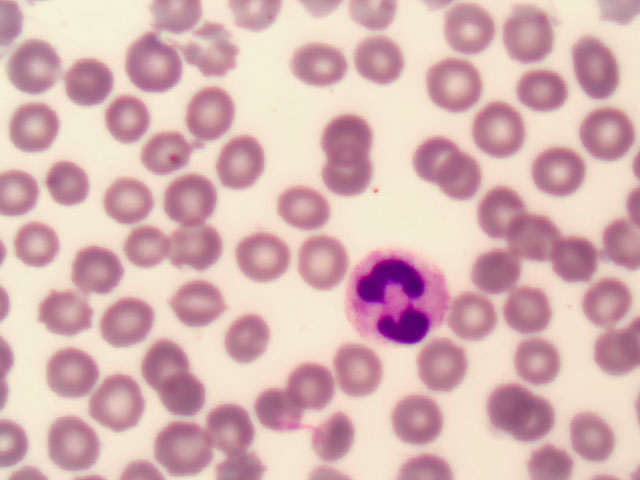RBC: (4, 34, 67, 97), (61, 48, 124, 111), (101, 83, 164, 146), (125, 33, 188, 96), (176, 78, 239, 141), (210, 133, 273, 196), (137, 122, 200, 185), (158, 157, 221, 220), (92, 166, 155, 229), (48, 152, 111, 215), (1, 167, 64, 230), (13, 212, 76, 275), (65, 237, 128, 300), (37, 275, 100, 338), (91, 287, 154, 350), (173, 273, 236, 336), (174, 218, 237, 281), (118, 216, 181, 279), (234, 222, 297, 285), (269, 176, 332, 239), (318, 151, 381, 214), (323, 109, 386, 172), (287, 39, 350, 102), (353, 30, 416, 93), (188, 24, 251, 87), (425, 51, 488, 114), (499, 4, 562, 67), (515, 54, 578, 117), (564, 38, 627, 101), (476, 96, 539, 159), (534, 144, 597, 207), (575, 100, 638, 163), (551, 225, 614, 288), (512, 213, 575, 276), (486, 182, 549, 245), (432, 155, 495, 218), (411, 127, 474, 190), (469, 230, 532, 293), (492, 270, 555, 333), (448, 287, 511, 350), (500, 330, 563, 393), (471, 377, 534, 440), (500, 388, 563, 451), (567, 402, 630, 465), (577, 320, 640, 383), (577, 271, 640, 334), (414, 335, 477, 398), (385, 386, 448, 449), (326, 341, 389, 404), (288, 348, 351, 411), (259, 379, 322, 442), (302, 400, 365, 463), (200, 396, 263, 459), (167, 417, 230, 480), (160, 369, 223, 432), (142, 331, 205, 394), (221, 305, 284, 368), (294, 225, 357, 288), (91, 372, 154, 435), (43, 342, 106, 405), (47, 408, 110, 471), (1, 95, 63, 158), (438, 1, 501, 63)
WBC: (343, 249, 451, 348)
